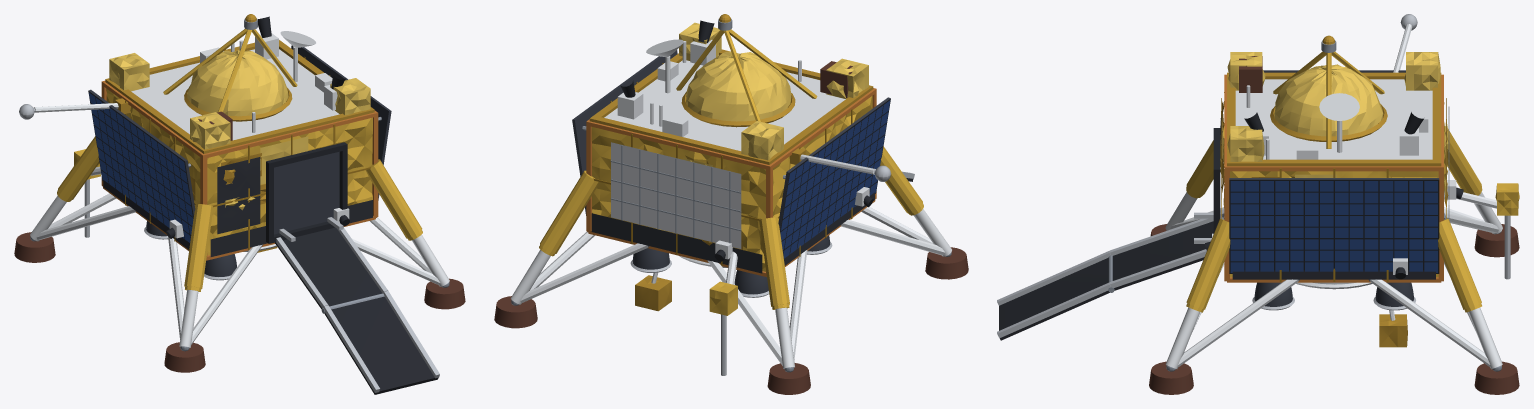
The model's file is vikram.glb.
3 views of the same model, side by side, from view 1: azimuth 30°, elevation 25°; view 2: azimuth 150°, elevation 25°; view 3: azimuth 270°, elevation 25° (orthographic). The views are drawn at different scales.
Visible parts, largest first — view 1: body, foil, solar-panel; view 2: body, foil, solar-panel; view 3: body, foil, solar-panel.
Boxes of the visible parts, bbox=[...] form: body: bbox=[14, 16, 465, 394]; foil: bbox=[57, 14, 422, 291]; solar-panel: bbox=[89, 92, 193, 242]; body: bbox=[494, 18, 968, 394]; foil: bbox=[539, 14, 923, 315]; solar-panel: bbox=[780, 100, 890, 258]; body: bbox=[997, 14, 1519, 394]; foil: bbox=[1186, 35, 1519, 347]; solar-panel: bbox=[1230, 181, 1437, 272].
Bounding box in the file's own units: 3.9 × 2.94 × 4.88.
